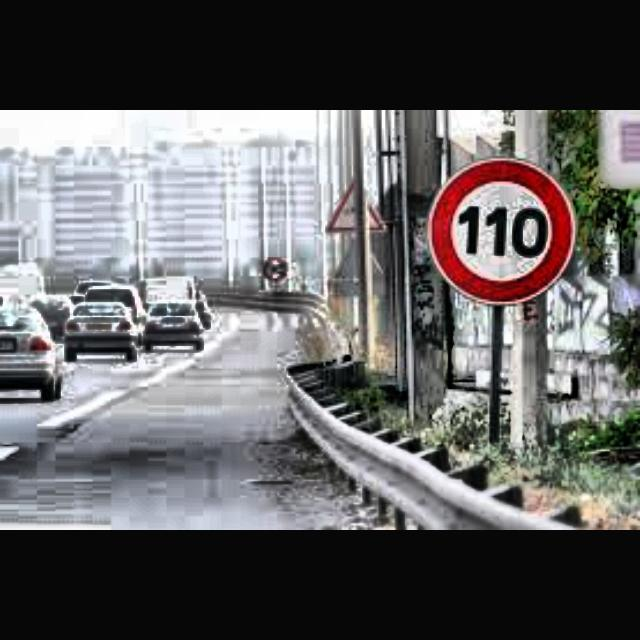speed_110: (431, 160, 575, 304)
